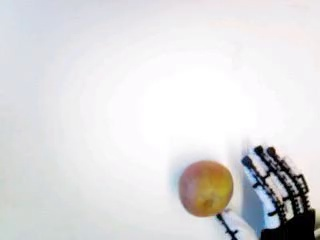apple: (178, 159, 233, 217)
hand: (218, 145, 320, 240)
